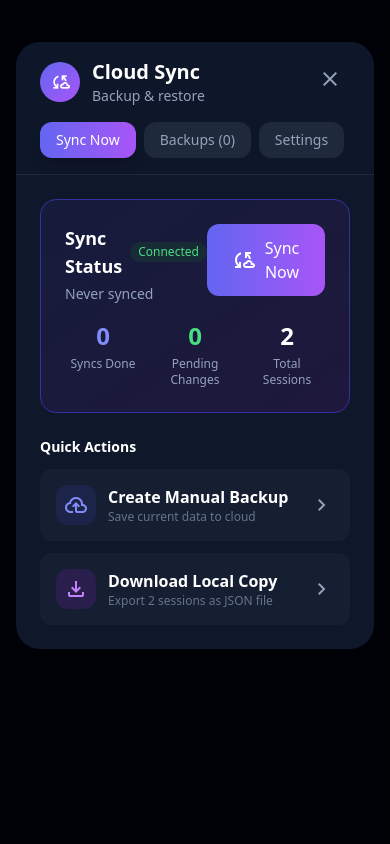
CloudSyncModal › Settings Tab › should show sync interval selector when auto sync is enabled
Click the button "Settings".
click(302, 140)  # box [259,122,344,158]
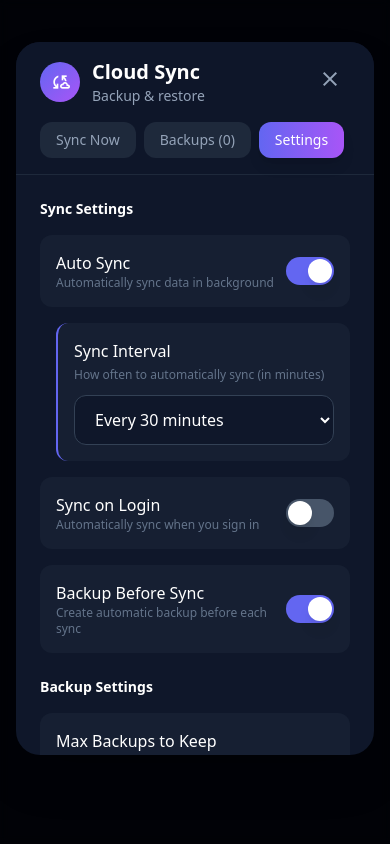
Now the text "Sync Interval" is shown, box [74,340,171,362]
